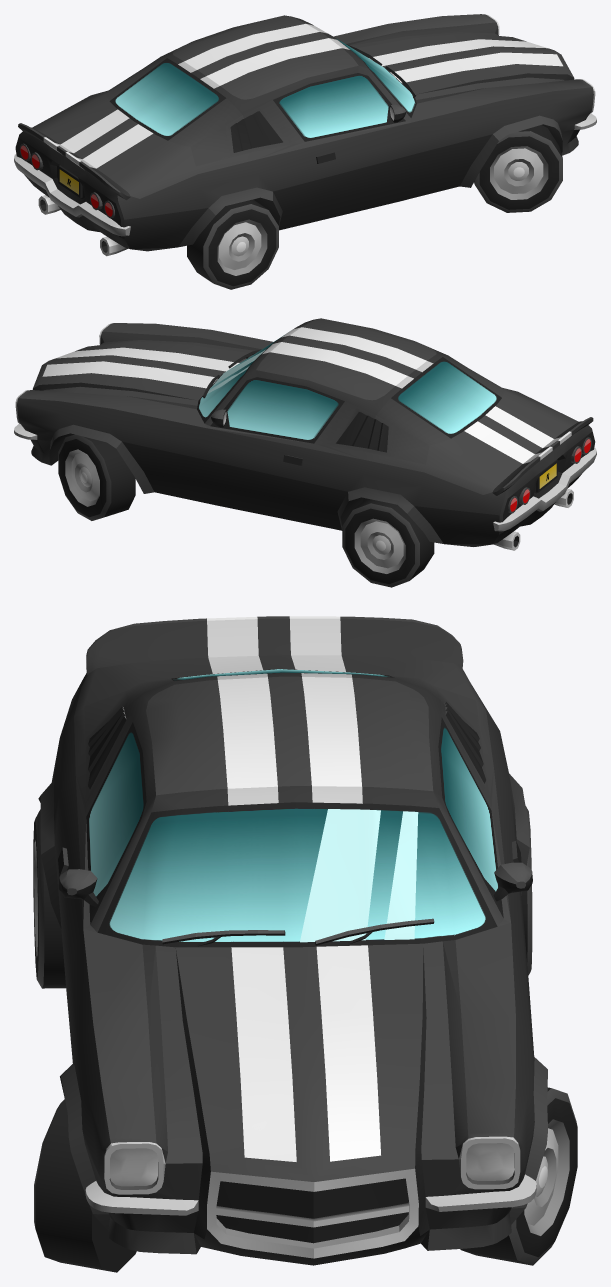
Rendered from Car_095.glb.
The picture shows the model from 3 angles, top to bottom: view 1: azimuth 30°, elevation 25°; view 2: azimuth 150°, elevation 25°; view 3: azimuth 270°, elevation 25°; orthographic projection. The views are drawn at different scales.
Visible parts, largest first — view 1: Car_095, wheel_3_Car_095_Wheel_3R, wheel_0_Car_095_Wheel_1R; view 2: Car_095, wheel_2_Car_095_Wheel_3L, wheel_1_Car_095_Wheel_2L; view 3: Car_095, wheel_0_Car_095_Wheel_1R, wheel_1_Car_095_Wheel_2L, wheel_3_Car_095_Wheel_3R, wheel_2_Car_095_Wheel_3L.
Part boxes in pixels (x1,y1,x2,y2): Car_095: (14, 14, 596, 256); wheel_3_Car_095_Wheel_3R: (187, 199, 278, 289); wheel_0_Car_095_Wheel_1R: (474, 125, 562, 212); Car_095: (14, 318, 596, 550); wheel_2_Car_095_Wheel_3L: (342, 498, 434, 587); wheel_1_Car_095_Wheel_2L: (58, 434, 135, 520); Car_095: (38, 616, 547, 1265); wheel_0_Car_095_Wheel_1R: (34, 1099, 136, 1272); wheel_1_Car_095_Wheel_2L: (460, 1087, 577, 1265); wheel_3_Car_095_Wheel_3R: (33, 809, 65, 988); wheel_2_Car_095_Wheel_3L: (521, 806, 532, 975).
Size of the model in its own units: 4.81 by 1.55 by 2.24.
Materials: 1 (1 with a texture image).
